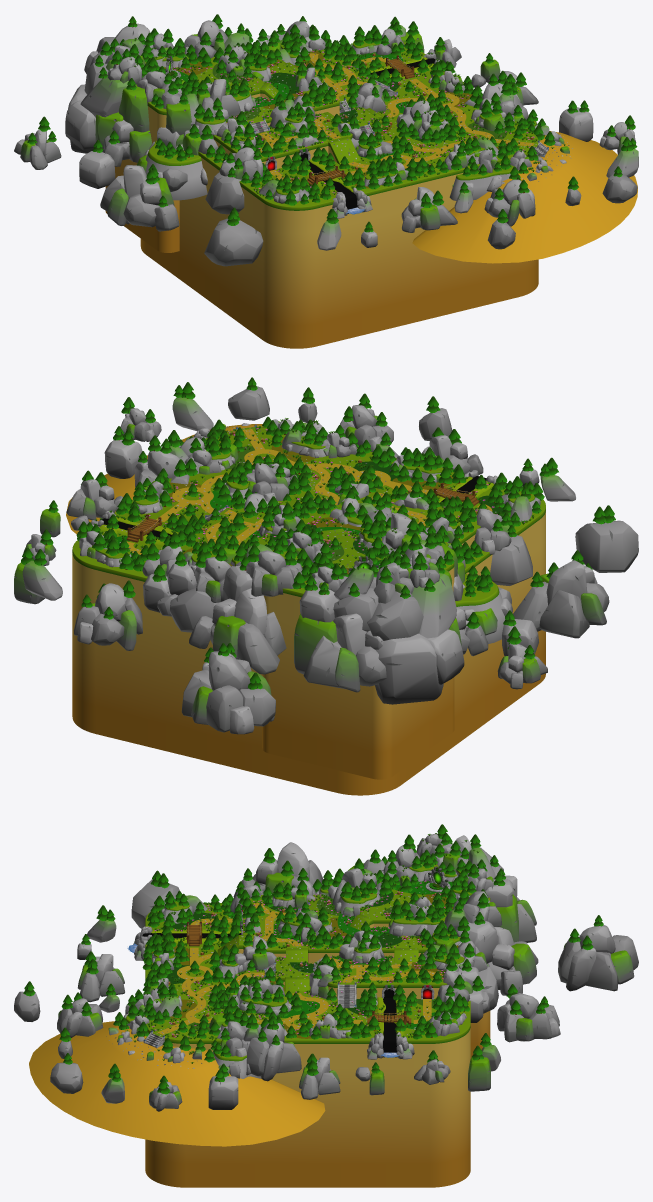
File: MP_Island.glb
The picture shows the model from 3 angles, top to bottom: view 1: azimuth 30°, elevation 25°; view 2: azimuth 150°, elevation 25°; view 3: azimuth 270°, elevation 25°; orthographic projection. The views are drawn at different scales.
Visible parts, largest first — view 1: SM_LM100RND, SM_Shore, SM_RockCliffE17, SM_LM40RND3, SM_RockMountainG12, SM_RockA16, SM_RockCliffE14, SM_RockCliffF15, SM_RockCliffE4, SM_RockF3, SM_RockA9, SM_RockG3 (+24 smaller); view 2: SM_LM100RND, SM_LM40RND3, SM_RockCliffF19, SM_RockCliffE17, SM_RockCliffE5, SM_RockCliffE3, SM_RockG5, SM_RockCliffF18, SM_RockA16, SM_RockA3, SM_RockMountainG12, SM_RockF3 (+36 smaller); view 3: SM_LM100RND, SM_Shore, SM_RockCliffF19, SM_RockCliffF18, SM_RockCliffE5, SM_RockCliffF17, SM_RockCliffE17, SM_RockCliffE14, SM_LM40RND, SM_LM40RND3, SM_RockCliffF15, SM_RockCliffE15 (+23 smaller).
Boxes of the visible parts, box(x1,y1,x2,y2) form: SM_LM100RND: box(140, 42, 538, 348); SM_Shore: box(412, 131, 637, 263); SM_RockCliffE17: box(100, 165, 179, 231); SM_LM40RND3: box(105, 52, 264, 252); SM_RockMountainG12: box(137, 140, 207, 200); SM_RockA16: box(204, 218, 263, 266); SM_RockCliffE14: box(401, 187, 457, 232); SM_RockCliffF15: box(484, 179, 535, 226); SM_RockCliffE4: box(104, 120, 152, 166); SM_RockF3: box(80, 76, 128, 117); SM_RockA9: box(205, 172, 244, 214); SM_RockG3: box(65, 100, 95, 150); SM_LM100RND: box(72, 427, 545, 795); SM_LM40RND3: box(262, 531, 454, 779); SM_RockCliffF19: box(181, 651, 275, 734); SM_RockCliffE17: box(513, 560, 609, 638); SM_RockCliffE5: box(189, 588, 286, 674); SM_RockCliffE3: box(303, 613, 386, 692); SM_RockG5: box(375, 633, 443, 704); SM_RockCliffF18: box(74, 583, 142, 650); SM_RockA16: box(575, 520, 638, 572); SM_RockA3: box(367, 591, 423, 640); SM_RockMountainG12: box(455, 574, 512, 643); SM_RockF3: box(412, 573, 456, 638); SM_LM100RND: box(145, 903, 470, 1187); SM_Shore: box(29, 1021, 325, 1146); SM_RockCliffF19: box(558, 925, 638, 991); SM_RockCliffF18: box(497, 993, 560, 1042); SM_RockCliffE5: box(487, 927, 538, 995); SM_RockCliffF17: box(246, 1023, 301, 1081); SM_RockCliffE17: box(233, 842, 323, 897); SM_RockCliffE14: box(77, 954, 124, 1002); SM_LM40RND: box(327, 956, 447, 998); SM_LM40RND3: box(360, 881, 490, 1058); SM_RockCliffF15: box(57, 998, 103, 1037); SM_RockCliffE15: box(299, 1057, 340, 1099).
Size of the model in its own units: 181 by 72.66 by 192.
8 materials, 6 textured.
